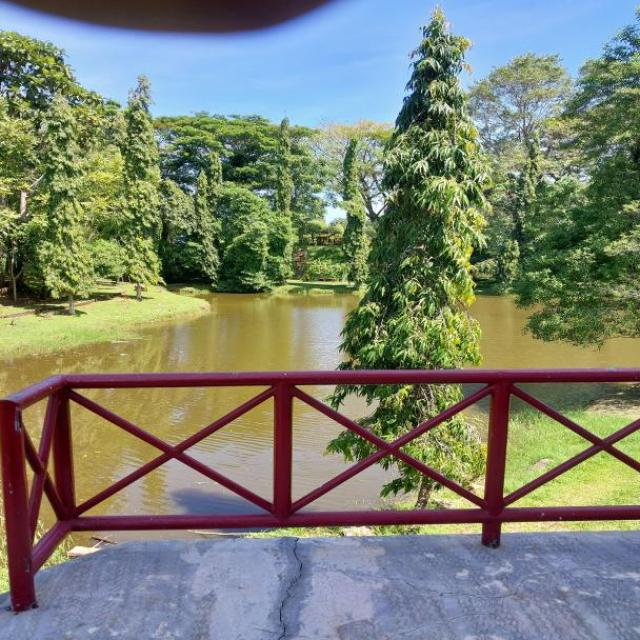gate ahead at: (0, 363, 640, 598)
